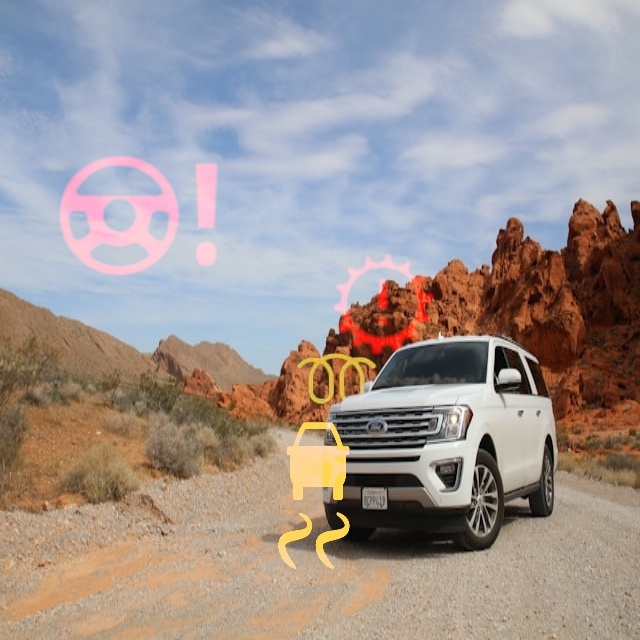symbol: (43, 121, 235, 313), (222, 402, 410, 590), (292, 213, 474, 395), (272, 315, 401, 444)
